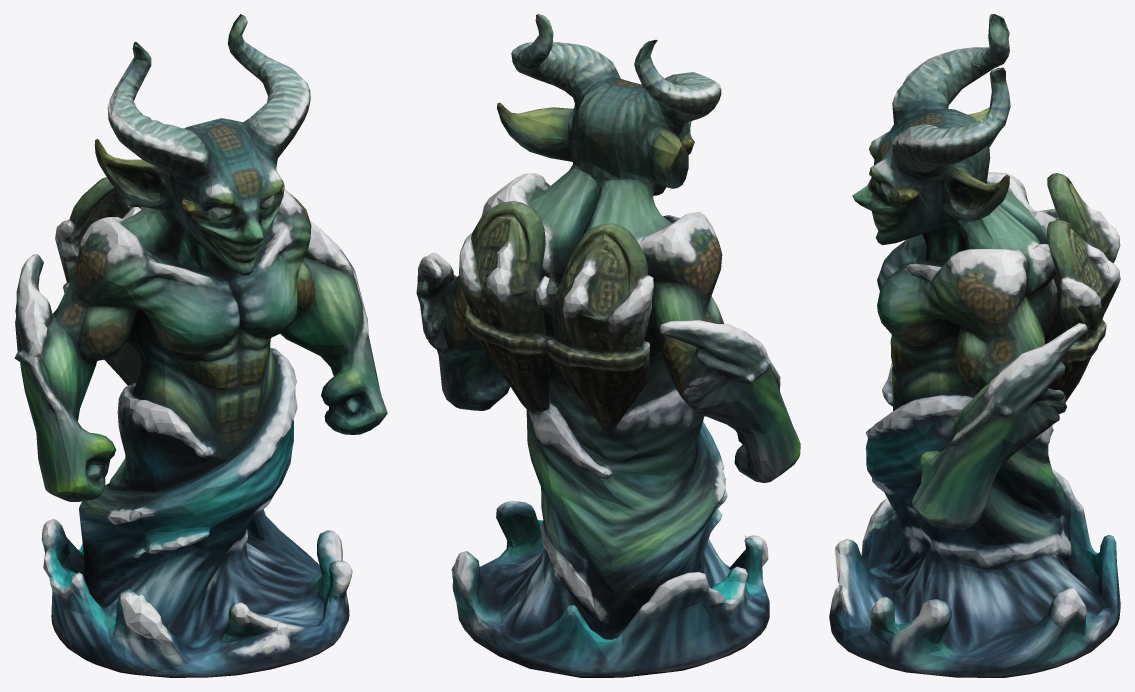
File: whirlpoolImp.glb
The picture shows the model from 3 angles, left to right: view 1: azimuth 30°, elevation 25°; view 2: azimuth 150°, elevation 25°; view 3: azimuth 270°, elevation 25°; orthographic projection. The views are drawn at different scales.
Visible parts, largest first — view 1: world; view 2: world; view 3: world.
Part boxes in pixels (<box>): world: <box>14,14,387,677</box>; world: <box>416,14,800,677</box>; world: <box>829,14,1120,677</box>.
Size of the model in its own units: 0.6075 by 0.9995 by 0.4567.
Materials: 1 (1 with a texture image).
